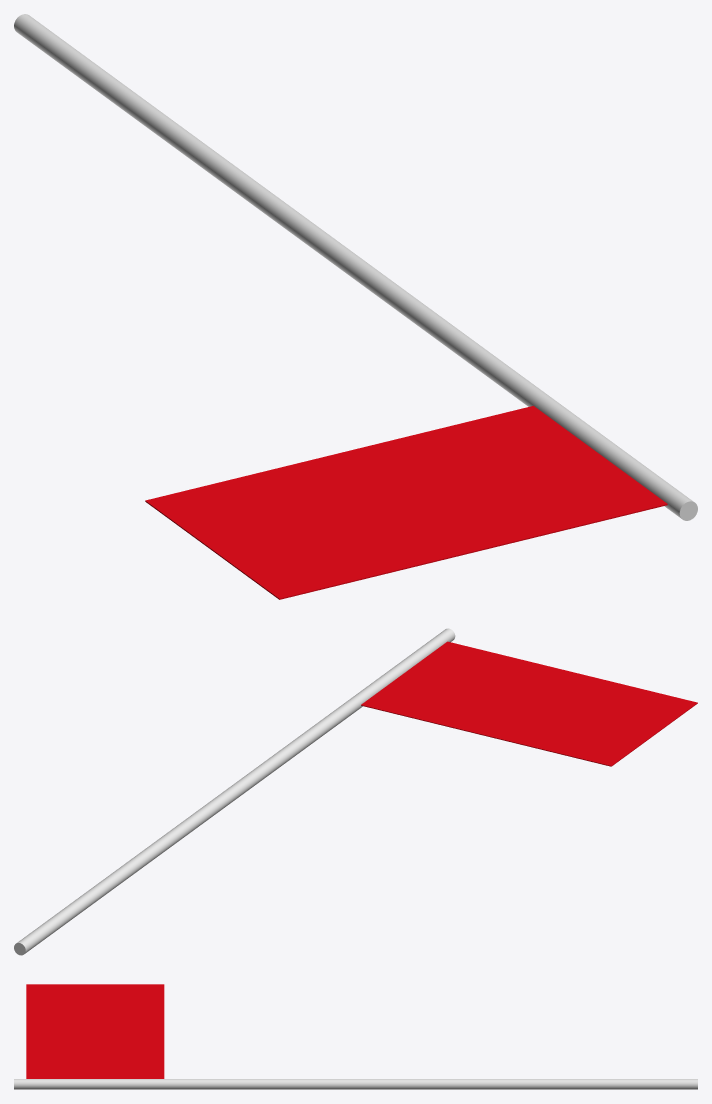
Rendered from flag.fbx.
3 views of the same model, one above another, from view 1: azimuth 30°, elevation 25°; view 2: azimuth 150°, elevation 25°; view 3: azimuth 270°, elevation 25° (orthographic). The views are drawn at different scales.
Parts seen in each view (by area): view 1: Flag; view 2: Flag; view 3: Flag.
Boxes of the visible parts, x1=… form: Flag: x1=14, y1=14, x2=697, y2=599; Flag: x1=14, y1=628, x2=697, y2=955; Flag: x1=14, y1=984, x2=697, y2=1089.
Bounding box in the file's own units: 398 × 17.87 × 1129.
